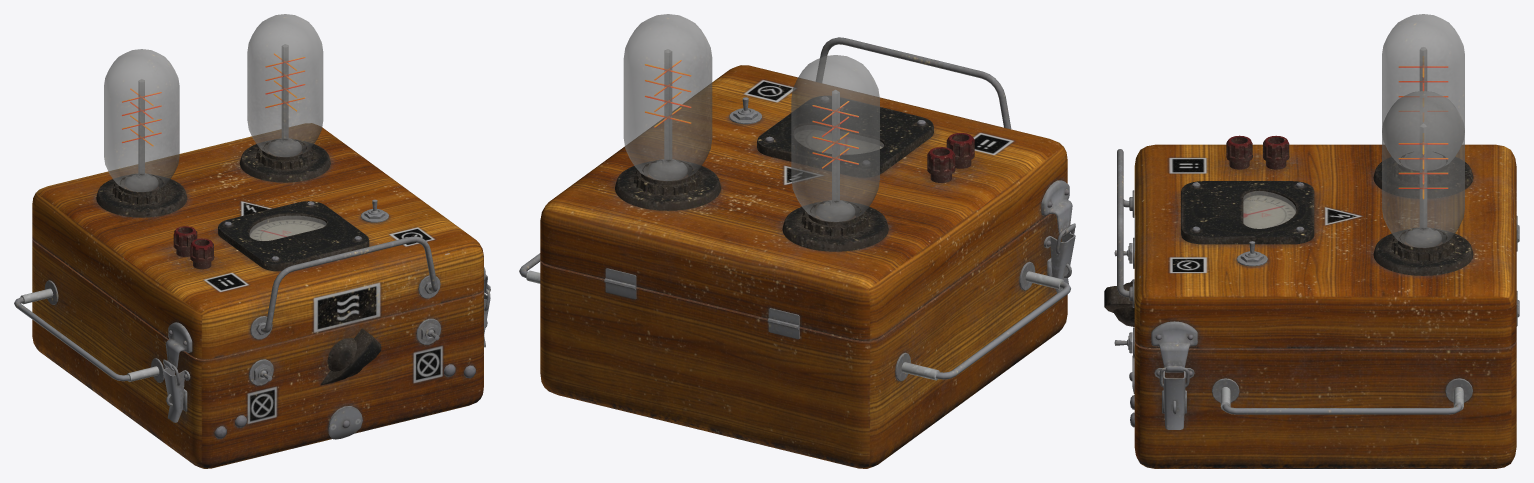
Rendered from vacuum_tube_instruments.glb.
The picture shows the model from 3 angles, left to right: view 1: azimuth 30°, elevation 25°; view 2: azimuth 150°, elevation 25°; view 3: azimuth 270°, elevation 25°; orthographic projection. The views are drawn at different scales.
Parts seen in each view (by area): view 1: Sphere001; view 2: Sphere001; view 3: Sphere001.
Boxes of the visible parts, left/top/right/bottom form: Sphere001: left=14, top=14, right=490, bottom=468; Sphere001: left=519, top=14, right=1075, bottom=468; Sphere001: left=1104, top=14, right=1519, bottom=468.
Bounding box in the file's own units: 0.2837 × 0.2261 × 0.2495.
1 material, 1 textured.
